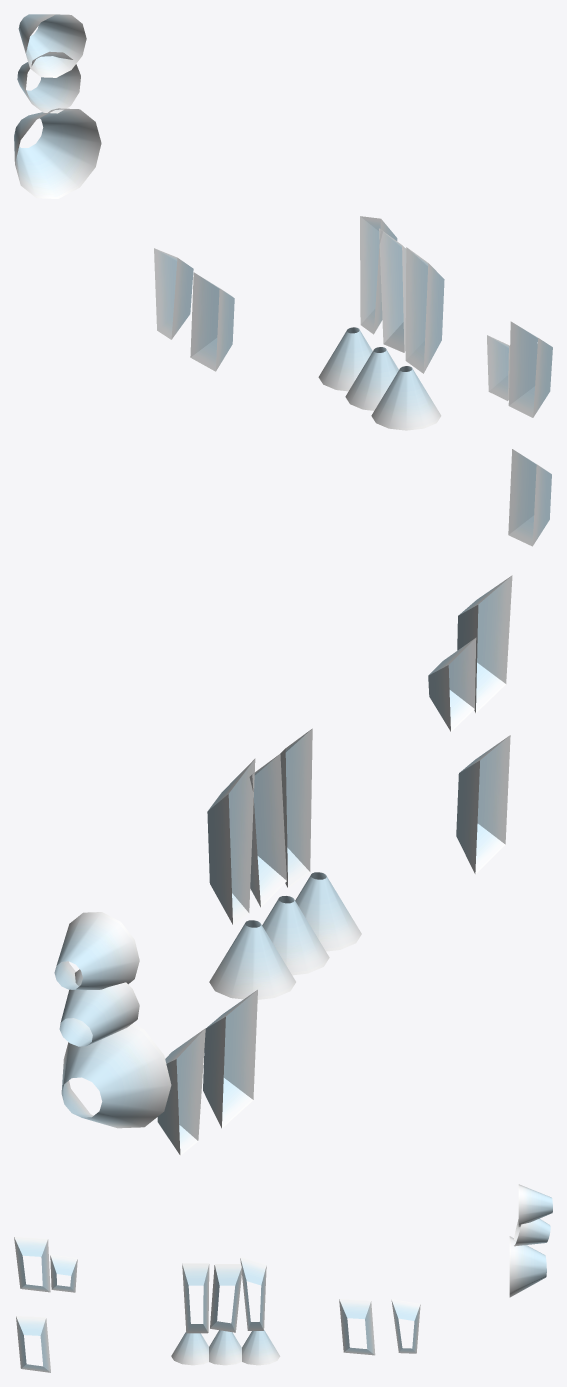
File: Hecks_Kitchen_Alleyway_ShineFX_variant2.fbx
The picture shows the model from 3 angles, top to bottom: view 1: azimuth 30°, elevation 25°; view 2: azimuth 150°, elevation 25°; view 3: azimuth 270°, elevation 25°; orthographic projection. The views are drawn at different scales.
Parts seen in each view (by area): view 1: Hecks_Kitchen_Alleyway_ShineFX_variant2; view 2: Hecks_Kitchen_Alleyway_ShineFX_variant2; view 3: Hecks_Kitchen_Alleyway_ShineFX_variant2.
Part boxes in pixels (bbox=[...]): Hecks_Kitchen_Alleyway_ShineFX_variant2: bbox=[14, 14, 552, 546]; Hecks_Kitchen_Alleyway_ShineFX_variant2: bbox=[54, 575, 512, 1155]; Hecks_Kitchen_Alleyway_ShineFX_variant2: bbox=[14, 1184, 552, 1372].
Bounding box in the file's own units: 12.01 × 17.68 × 52.68.
1 material, 1 textured.
